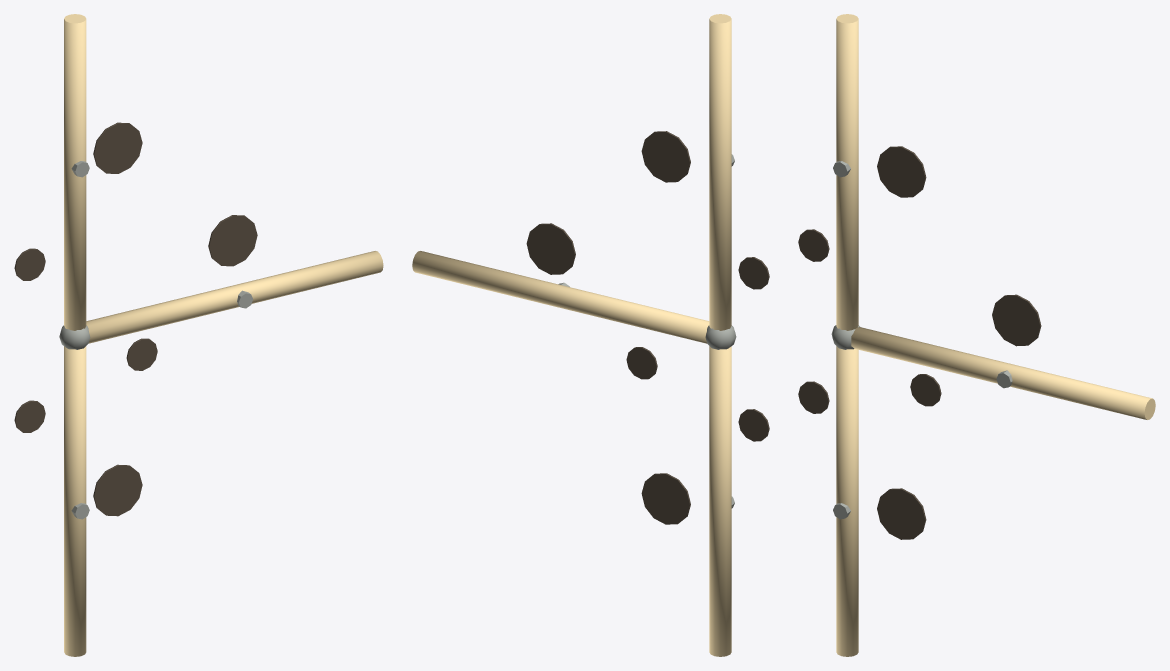
Rendered from drip_m07.obj.
The picture shows the model from 3 angles, left to right: view 1: azimuth 30°, elevation 25°; view 2: azimuth 150°, elevation 25°; view 3: azimuth 330°, elevation 25°; orthographic projection.
Parts seen in each view (by area): view 1: hose4, hose1, hose2, wet2_0, wet4_0, wet1_0, wet2_1, wet4_1, wet1_1, tee; view 2: hose4, hose1, hose2, wet1_0, wet2_0, wet4_0, wet1_1, wet4_1, wet2_1, tee; view 3: hose4, hose2, hose1, wet4_0, wet1_0, wet2_0, wet4_1, wet1_1, wet2_1.
Part boxes in pixels (x1,y1,x2,y2): hose4: (64,14,86,330); hose1: (64,346,86,656); hose2: (86,251,383,343); wet2_0: (208,215,257,266); wet4_0: (93,122,142,173); wet1_0: (93,464,142,516); wet2_1: (126,338,157,370); wet4_1: (14,248,45,280); wet1_1: (14,400,45,432); tee: (59,325,90,349); hose4: (709,14,731,330); hose1: (709,346,731,656); hose2: (412,251,709,343); wet1_0: (641,473,690,524); wet2_0: (526,223,575,274); wet4_0: (641,131,690,182); wet1_1: (738,409,769,441); wet4_1: (738,257,769,289); wet2_1: (626,347,657,379); tee: (705,325,736,349); hose4: (836,14,858,330); hose2: (851,327,1155,419); hose1: (836,346,858,656); wet4_0: (877,146,926,197); wet1_0: (877,488,926,539); wet2_0: (992,294,1041,346); wet4_1: (798,229,829,261); wet1_1: (798,381,829,413); wet2_1: (910,374,941,406).
Size of the model in its own units: 0.59 by 1 by 0.0464.
3 materials, 3 textured.
